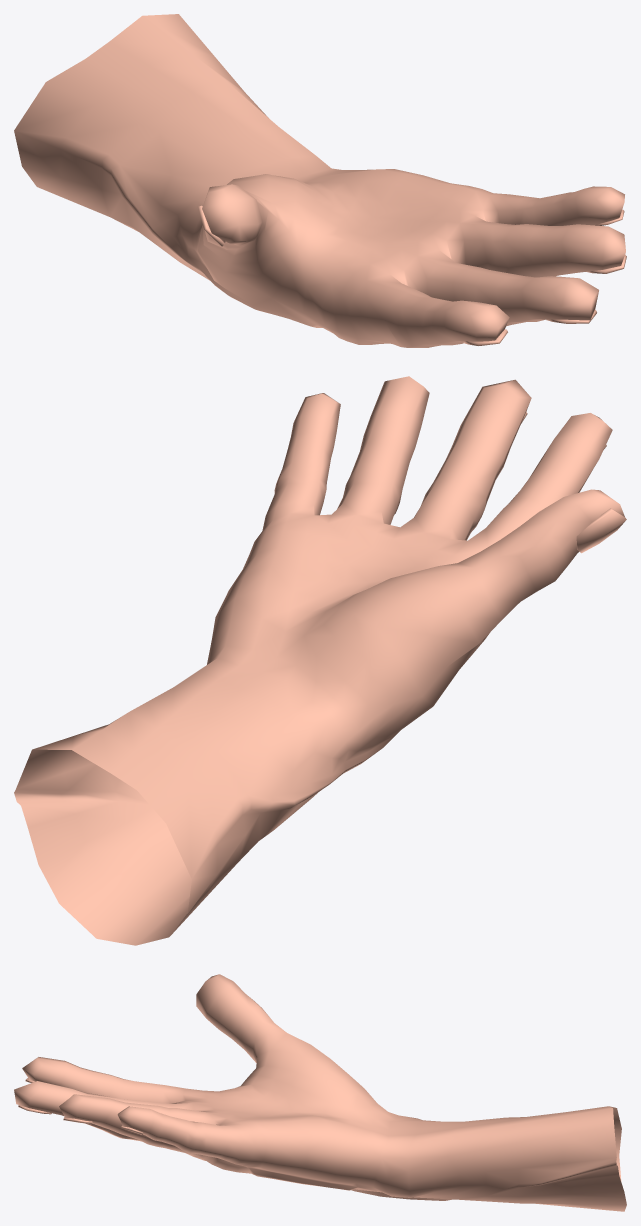
Rendered from 5_3_HandSmoothRighFront.glb.
3 views of the same model, one above another, from view 1: azimuth 30°, elevation 25°; view 2: azimuth 150°, elevation 25°; view 3: azimuth 270°, elevation 25° (orthographic). The views are drawn at different scales.
Parts seen in each view (by area): view 1: polySurface920.003; view 2: polySurface920.003; view 3: polySurface920.003.
Boxes of the visible parts, bbox=[...] form: polySurface920.003: bbox=[14, 14, 626, 347]; polySurface920.003: bbox=[14, 376, 626, 945]; polySurface920.003: bbox=[14, 974, 626, 1211].
Bounding box in the file's own units: 0.0873 × 0.0587 × 0.1856.
